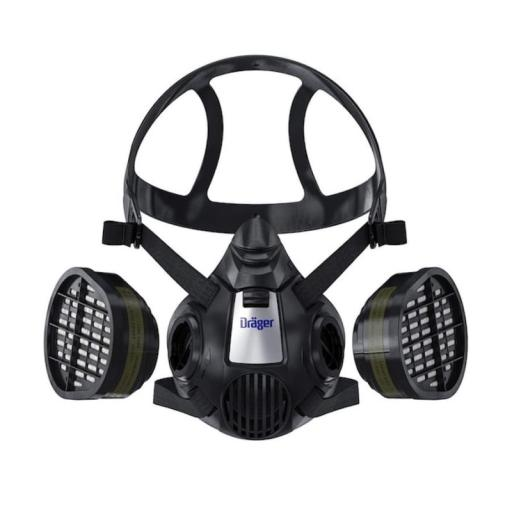mask: (33, 50, 477, 447)
